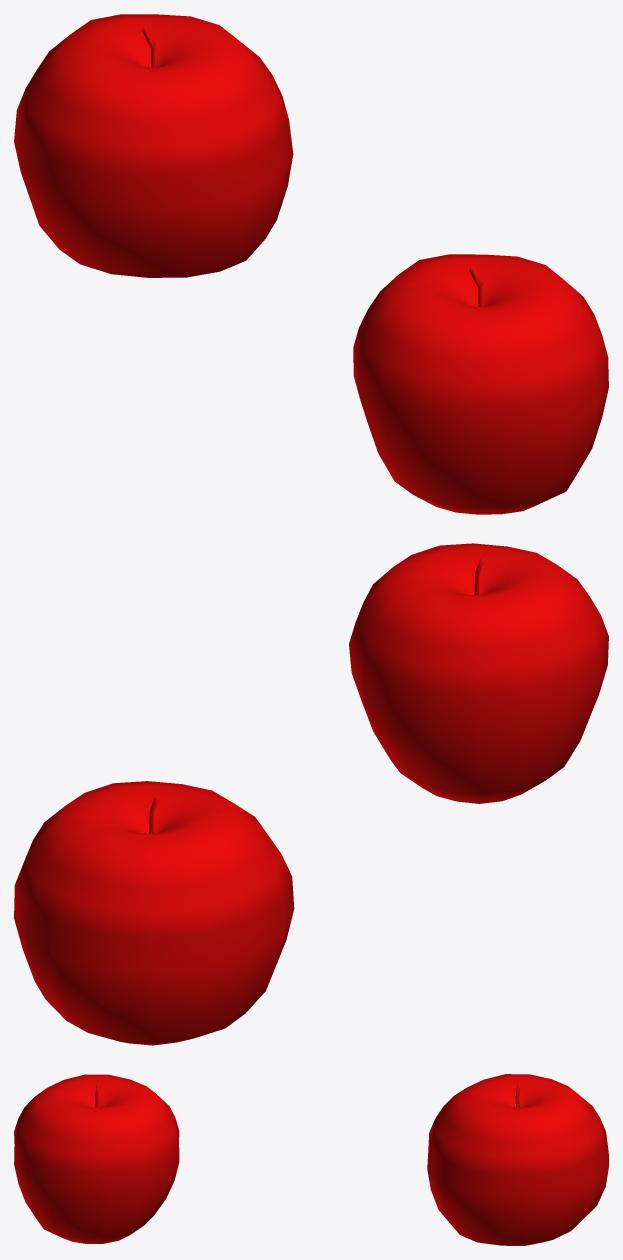
The model's file is thorkea_apples_grp.fbx.
3 views of the same model, one above another, from view 1: azimuth 30°, elevation 25°; view 2: azimuth 150°, elevation 25°; view 3: azimuth 270°, elevation 25° (orthographic). The views are drawn at different scales.
Visible parts, largest first — view 1: thorkea_apple_ai2_2, thorkea_apple_ai2_1; view 2: thorkea_apple_ai2_2, thorkea_apple_ai2_1; view 3: thorkea_apple_ai2_2, thorkea_apple_ai2_1.
Boxes of the visible parts, x1,y1,x2,y2 form: thorkea_apple_ai2_2: (14, 14, 293, 277); thorkea_apple_ai2_1: (353, 254, 608, 514); thorkea_apple_ai2_2: (14, 781, 294, 1045); thorkea_apple_ai2_1: (349, 543, 608, 803); thorkea_apple_ai2_2: (427, 1074, 608, 1245); thorkea_apple_ai2_1: (14, 1074, 179, 1243).
Bounding box in the file's own units: 8.35 × 7.82 × 28.29.
